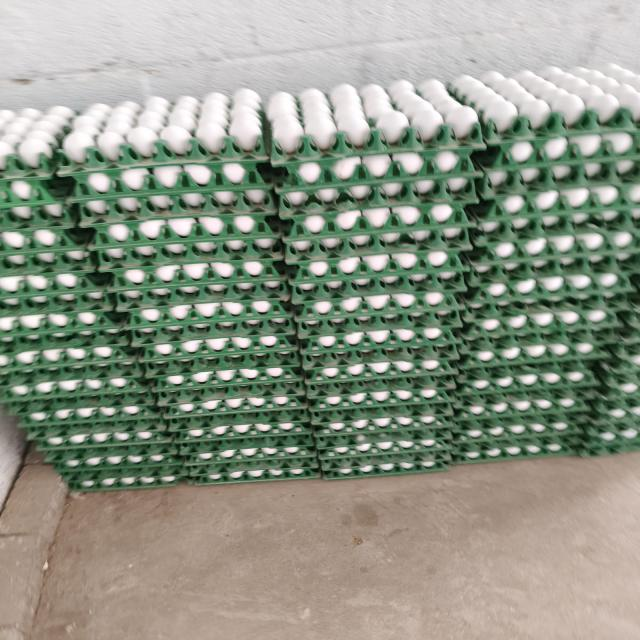egg_tray: (268, 81, 483, 206), (59, 90, 267, 213), (92, 214, 286, 337), (452, 67, 639, 192), (94, 214, 285, 326), (267, 80, 483, 177), (467, 186, 637, 306), (58, 88, 268, 179), (118, 265, 296, 370), (284, 204, 470, 296), (297, 271, 462, 368), (451, 66, 639, 150), (143, 336, 307, 430), (146, 341, 308, 435), (468, 186, 638, 273), (290, 252, 468, 335), (452, 361, 597, 461), (290, 252, 468, 332), (284, 204, 471, 278), (469, 186, 637, 268), (92, 216, 282, 288), (9, 339, 155, 431), (23, 406, 181, 490), (465, 255, 637, 329), (0, 204, 102, 328), (0, 312, 136, 399), (453, 359, 597, 441), (297, 290, 463, 360), (465, 256, 637, 323), (276, 152, 481, 208), (303, 349, 457, 423), (283, 204, 472, 264), (0, 205, 104, 314), (276, 149, 477, 205), (289, 252, 468, 314), (297, 291, 463, 357), (474, 131, 639, 197), (168, 410, 317, 483), (90, 215, 282, 271), (145, 336, 302, 404), (475, 132, 639, 197), (299, 309, 460, 374), (276, 160, 481, 211), (289, 247, 469, 305), (461, 296, 624, 360), (467, 246, 638, 306), (90, 212, 279, 266), (69, 163, 269, 214), (289, 250, 468, 306), (474, 127, 639, 186), (0, 204, 95, 306), (452, 385, 594, 453), (465, 255, 637, 311), (466, 256, 637, 312), (0, 301, 131, 374), (468, 211, 639, 266), (315, 409, 451, 478), (23, 418, 176, 479), (72, 161, 266, 209), (164, 406, 313, 468), (109, 260, 289, 310), (278, 188, 468, 235), (279, 188, 468, 235), (316, 413, 450, 479), (468, 184, 638, 236), (98, 239, 282, 287), (296, 296, 462, 349), (108, 259, 287, 308), (176, 421, 317, 483), (39, 431, 183, 490), (467, 184, 639, 233), (300, 326, 459, 379), (0, 273, 122, 341), (94, 240, 281, 284), (9, 367, 156, 422), (295, 291, 462, 338), (126, 300, 294, 346), (70, 191, 277, 228), (0, 106, 74, 209), (145, 340, 299, 389), (309, 378, 454, 430), (309, 378, 453, 430), (278, 182, 478, 219), (460, 297, 620, 343), (0, 363, 150, 412), (583, 327, 639, 454), (0, 332, 136, 384), (165, 406, 312, 454), (467, 183, 639, 222), (310, 378, 454, 424), (0, 346, 142, 392), (0, 270, 112, 328), (21, 392, 163, 437), (581, 344, 639, 454), (180, 434, 318, 479), (300, 327, 459, 366), (316, 432, 450, 478), (148, 365, 301, 404), (458, 330, 607, 370), (457, 360, 598, 402), (180, 433, 317, 476), (139, 325, 297, 362), (306, 360, 455, 399), (478, 165, 638, 201), (28, 420, 174, 459), (315, 418, 450, 460), (455, 387, 593, 428), (0, 106, 75, 181), (156, 370, 304, 407), (301, 340, 459, 374), (126, 300, 293, 332), (0, 344, 138, 380), (167, 416, 313, 450), (315, 410, 451, 446), (452, 407, 587, 443), (585, 184, 639, 274), (163, 396, 308, 429), (28, 419, 172, 452), (321, 444, 451, 479), (0, 228, 94, 276), (45, 442, 181, 475), (0, 309, 126, 343), (189, 452, 319, 484), (452, 433, 580, 464), (573, 64, 639, 122), (0, 180, 75, 231), (572, 63, 639, 120), (57, 462, 183, 491), (61, 463, 183, 491), (580, 400, 639, 454), (189, 461, 319, 485), (321, 456, 448, 480), (578, 413, 639, 455), (597, 363, 639, 421), (0, 178, 71, 211), (0, 202, 75, 232), (601, 330, 639, 380), (595, 168, 639, 204), (618, 272, 639, 344), (618, 254, 639, 310), (586, 226, 621, 243), (510, 316, 554, 329), (507, 442, 545, 455), (512, 396, 546, 406), (505, 368, 535, 379), (621, 70, 639, 88), (612, 136, 628, 155), (503, 346, 526, 359), (619, 166, 637, 182), (580, 138, 598, 153), (395, 294, 414, 306), (516, 147, 532, 161), (376, 296, 393, 308), (490, 399, 508, 410), (307, 223, 325, 234), (10, 402, 26, 414), (57, 382, 75, 392), (616, 236, 629, 248), (625, 314, 636, 328), (3, 391, 19, 400), (601, 278, 615, 288), (118, 200, 132, 210), (190, 267, 202, 278), (359, 298, 372, 308), (590, 313, 604, 322), (218, 266, 230, 276), (340, 299, 357, 306), (198, 455, 213, 462), (463, 454, 478, 460), (487, 322, 498, 330), (397, 300, 411, 306), (470, 404, 484, 410), (90, 205, 102, 212), (517, 142, 533, 147), (548, 446, 561, 452), (604, 65, 615, 72), (549, 446, 560, 452), (577, 282, 588, 288), (397, 334, 405, 342), (483, 378, 493, 384), (134, 278, 144, 284), (307, 228, 319, 233), (66, 380, 86, 383), (541, 368, 549, 375), (84, 282, 91, 290), (622, 230, 630, 237), (248, 430, 261, 434), (567, 236, 577, 241), (285, 450, 297, 454), (103, 408, 111, 414), (394, 410, 403, 415), (550, 145, 561, 149), (533, 422, 544, 426), (232, 268, 237, 276), (488, 454, 498, 458), (238, 429, 246, 434), (580, 216, 585, 224), (508, 451, 520, 454), (430, 332, 437, 337), (591, 316, 598, 321), (579, 136, 587, 140), (367, 220, 375, 224), (249, 273, 259, 276), (253, 266, 259, 271), (559, 138, 565, 143), (156, 145, 162, 150), (170, 268, 174, 275), (515, 424, 522, 428), (181, 208, 188, 212), (567, 366, 576, 369), (338, 159, 347, 162), (1, 327, 6, 332), (634, 407, 639, 412), (432, 256, 436, 262), (508, 313, 516, 316), (557, 421, 565, 424), (173, 158, 179, 162), (201, 307, 205, 313), (595, 304, 601, 308), (371, 291, 382, 293), (426, 443, 433, 446), (405, 334, 412, 337), (567, 371, 574, 374), (22, 374, 27, 378), (40, 396, 45, 400), (273, 358, 277, 363), (406, 383, 411, 387), (575, 270, 580, 274), (265, 199, 268, 205), (111, 378, 117, 381), (217, 478, 223, 481), (256, 474, 262, 477), (501, 324, 505, 328), (173, 322, 181, 324), (117, 334, 121, 338), (522, 451, 526, 455), (117, 286, 125, 288), (413, 296, 417, 300), (595, 249, 599, 253), (241, 222, 245, 226), (366, 340, 371, 343), (305, 460, 310, 463), (94, 391, 99, 394), (246, 353, 251, 356), (128, 407, 133, 410), (204, 329, 209, 332), (373, 225, 378, 228), (634, 193, 639, 196), (573, 215, 576, 220), (319, 310, 326, 312), (158, 322, 165, 324), (468, 448, 475, 450), (122, 456, 126, 459), (85, 389, 89, 392), (123, 417, 127, 420), (631, 310, 634, 314), (36, 414, 39, 418), (418, 303, 422, 306), (201, 376, 205, 379), (255, 371, 259, 374), (66, 265, 70, 268), (371, 156, 377, 158), (559, 246, 562, 250), (397, 445, 401, 448), (265, 340, 270, 342), (215, 339, 225, 340), (223, 456, 228, 458), (344, 175, 349, 177), (176, 428, 181, 430), (11, 376, 14, 379), (515, 325, 518, 328), (542, 309, 545, 312), (345, 307, 348, 310), (30, 398, 33, 401), (583, 243, 586, 246), (514, 368, 517, 371), (611, 196, 614, 199), (77, 393, 81, 395), (317, 308, 321, 310), (470, 448, 474, 450), (603, 225, 605, 229), (497, 427, 501, 429), (581, 418, 583, 422), (426, 206, 428, 210), (412, 342, 416, 344), (327, 282, 331, 284), (335, 447, 343, 448), (351, 308, 354, 310), (343, 324, 346, 326), (490, 454, 492, 457), (219, 288, 222, 290), (596, 136, 599, 138), (591, 236, 594, 238), (261, 343, 263, 346), (263, 452, 269, 453), (479, 311, 482, 313), (308, 374, 310, 377), (594, 238, 596, 241), (541, 369, 543, 372), (514, 371, 517, 373), (594, 247, 596, 250), (69, 453, 71, 456), (555, 307, 560, 308), (253, 351, 254, 356), (146, 474, 151, 475), (312, 225, 317, 226), (143, 356, 145, 358), (303, 272, 305, 274), (272, 452, 274, 454), (147, 383, 149, 385), (249, 265, 250, 269), (249, 269, 251, 271), (625, 268, 627, 270), (547, 262, 549, 264), (621, 308, 623, 310), (85, 411, 87, 413), (59, 382, 61, 384), (115, 453, 119, 454), (601, 269, 603, 271), (410, 167, 414, 168), (387, 229, 390, 230), (259, 265, 262, 266), (407, 294, 410, 295), (152, 287, 155, 288), (329, 391, 332, 392), (126, 413, 129, 414), (438, 258, 439, 261), (294, 300, 297, 301), (127, 202, 128, 205), (131, 418, 133, 419), (316, 331, 317, 333), (475, 200, 476, 202), (90, 378, 92, 379), (116, 279, 117, 281), (262, 265, 264, 266), (25, 385, 27, 386), (618, 151, 620, 152), (336, 305, 338, 306), (338, 306, 339, 308), (3, 305, 5, 306), (224, 376, 226, 377), (100, 409, 102, 410), (0, 142, 1, 144), (507, 265, 509, 266), (625, 333, 627, 334), (47, 300, 49, 301), (394, 385, 396, 386), (470, 284, 471, 286), (546, 202, 548, 203), (425, 412, 426, 414), (236, 171, 237, 173), (345, 309, 346, 310), (256, 405, 257, 406), (240, 263, 241, 264), (618, 68, 619, 69), (314, 321, 315, 322), (236, 447, 237, 448), (624, 240, 625, 241), (158, 212, 159, 213), (506, 427, 507, 428), (48, 345, 49, 346), (101, 226, 102, 227), (78, 305, 79, 306), (408, 254, 409, 255), (349, 441, 351, 441), (53, 394, 55, 394), (318, 310, 319, 310), (241, 416, 241, 417), (123, 392, 123, 393), (88, 376, 89, 376), (214, 272, 214, 272), (211, 270, 212, 270), (14, 374, 14, 375), (463, 356, 463, 358), (529, 370, 530, 370), (121, 278, 121, 278), (163, 474, 165, 474), (453, 250, 455, 250), (141, 383, 144, 383), (140, 283, 141, 283), (543, 309, 543, 310), (359, 223, 363, 223), (365, 216, 365, 217), (173, 285, 174, 285), (103, 381, 105, 381), (130, 461, 135, 461), (132, 454, 135, 454), (425, 392, 426, 392), (401, 385, 401, 386), (379, 374, 379, 374), (227, 436, 228, 436), (635, 210, 636, 210), (476, 243, 477, 243), (471, 203, 472, 203), (639, 270, 639, 270), (188, 199, 190, 199), (65, 454, 66, 454)
